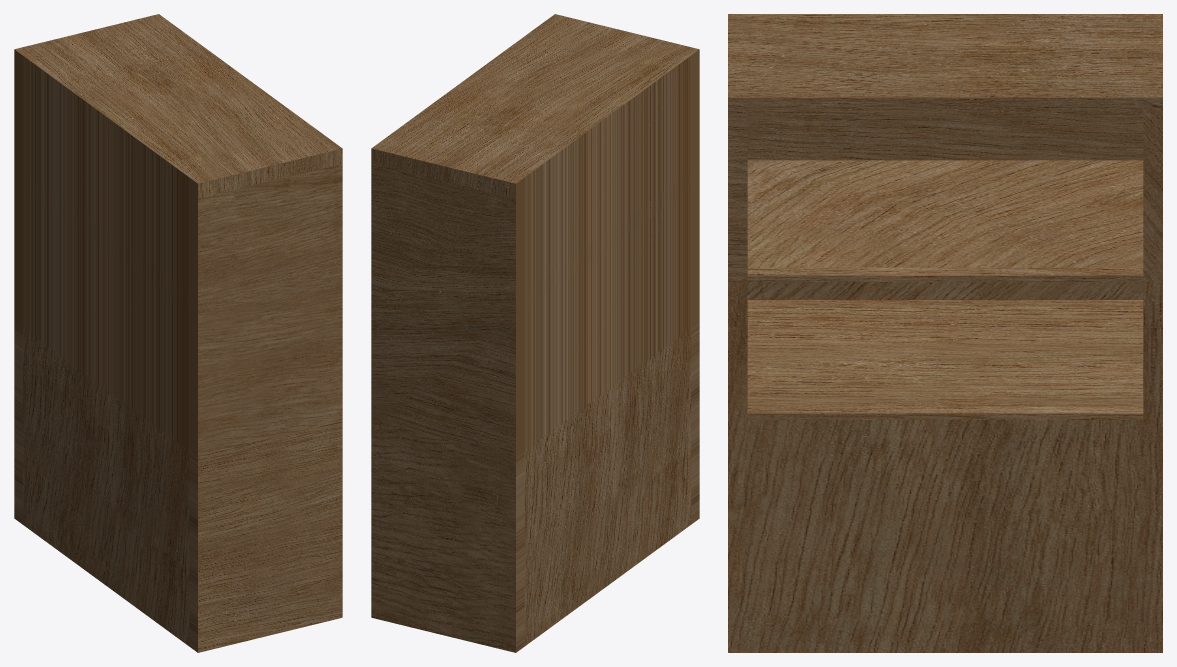
The model's file is shelftestUV.fbx.
3 renders of one model, left to right at view 1: azimuth 30°, elevation 25°; view 2: azimuth 150°, elevation 25°; view 3: azimuth 270°, elevation 25°, orthographic. The views are drawn at different scales.
Visible parts, largest first — view 1: Cube; view 2: Cube; view 3: Cube.
Part boxes in pixels (x1=…): Cube: x1=14, y1=14, x2=342, y2=652; Cube: x1=371, y1=14, x2=699, y2=652; Cube: x1=728, y1=14, x2=1162, y2=652.
Size of the model in its own units: 50 by 155 by 110.
